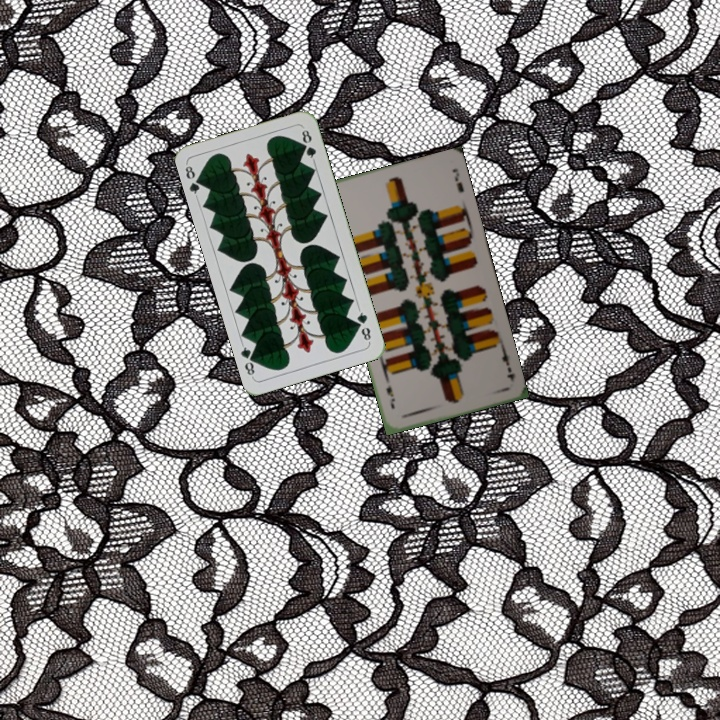E7: (498, 345, 517, 385)
G8: (181, 160, 206, 200), (353, 305, 373, 345)
